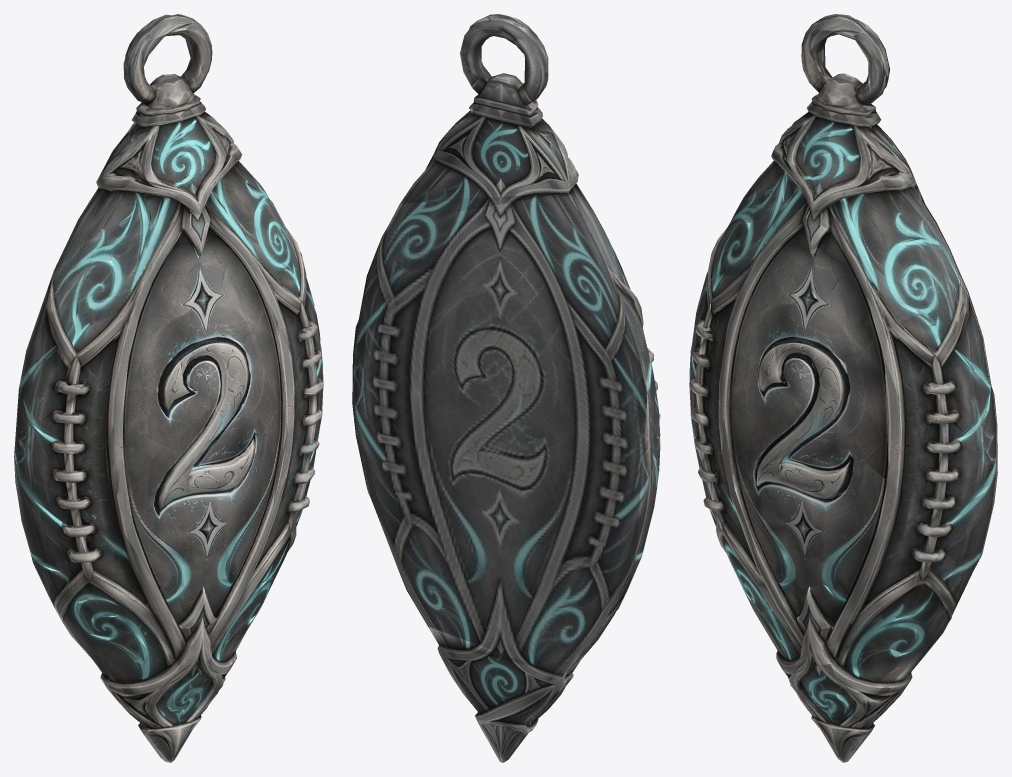
The model's file is gabriels_charm.glb.
3 renders of one model, left to right at view 1: azimuth 30°, elevation 25°; view 2: azimuth 150°, elevation 25°; view 3: azimuth 330°, elevation 25°, orthographic.
Bounding box in the file's own units: 0.8469 × 2 × 0.2329.
Materials: 1 (1 with a texture image).
